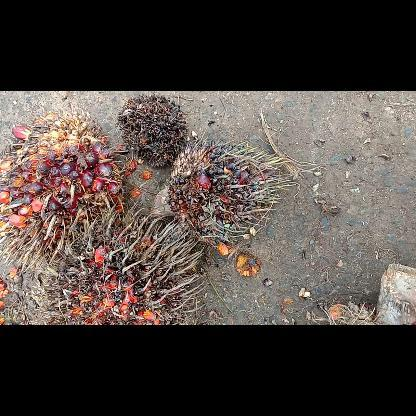TBS abnormal: (150, 136, 292, 250), (115, 93, 189, 169)
TBS masak: (1, 110, 140, 264)
Terlalu masak: (38, 201, 202, 323)
